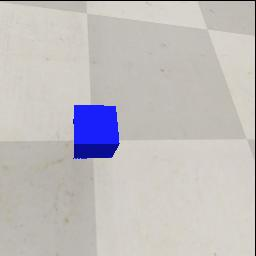box: (73, 105, 120, 159)
